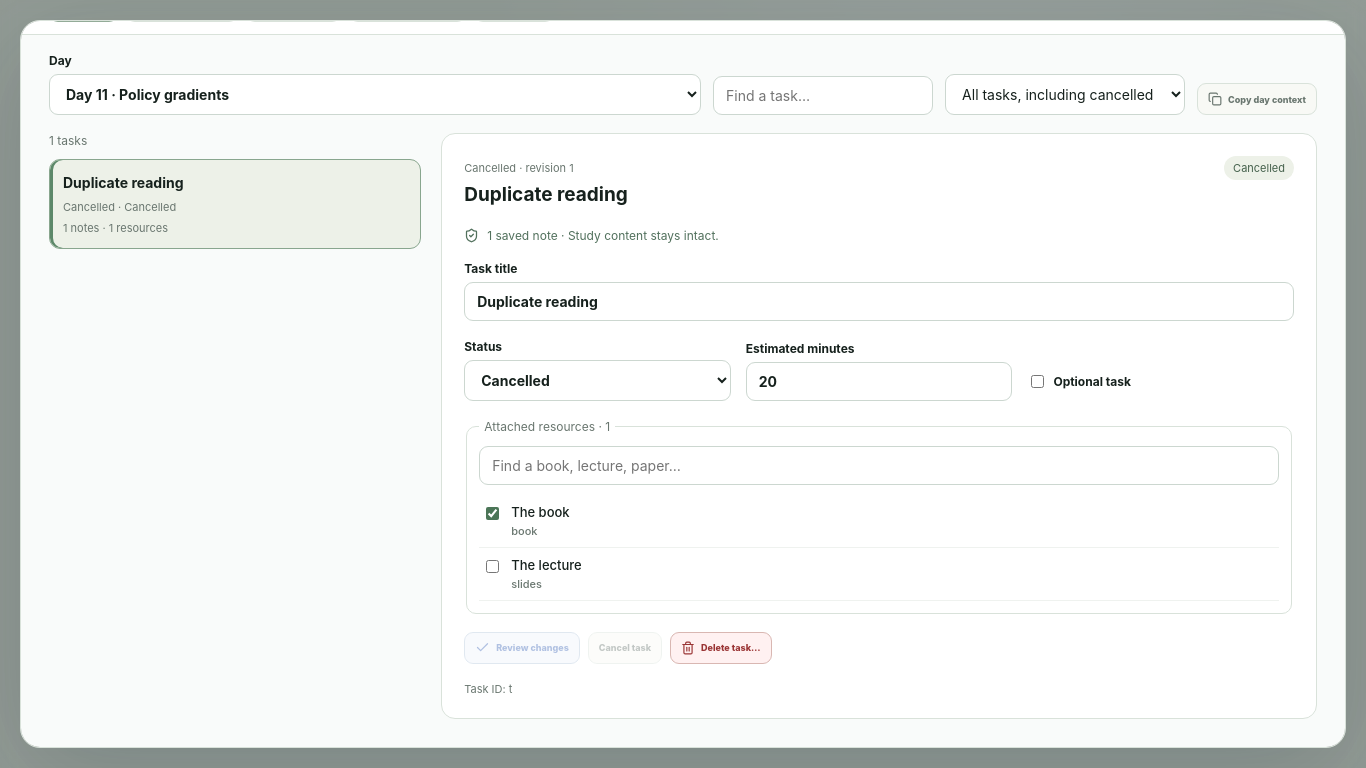
Test: requires a deletion preview, retains failures, and retries the same request ID
Later steps or results of the test are not shown.
(page scrolled)
Click the button "Delete task…" at coordinates (721, 648), box [670,632,772,664]
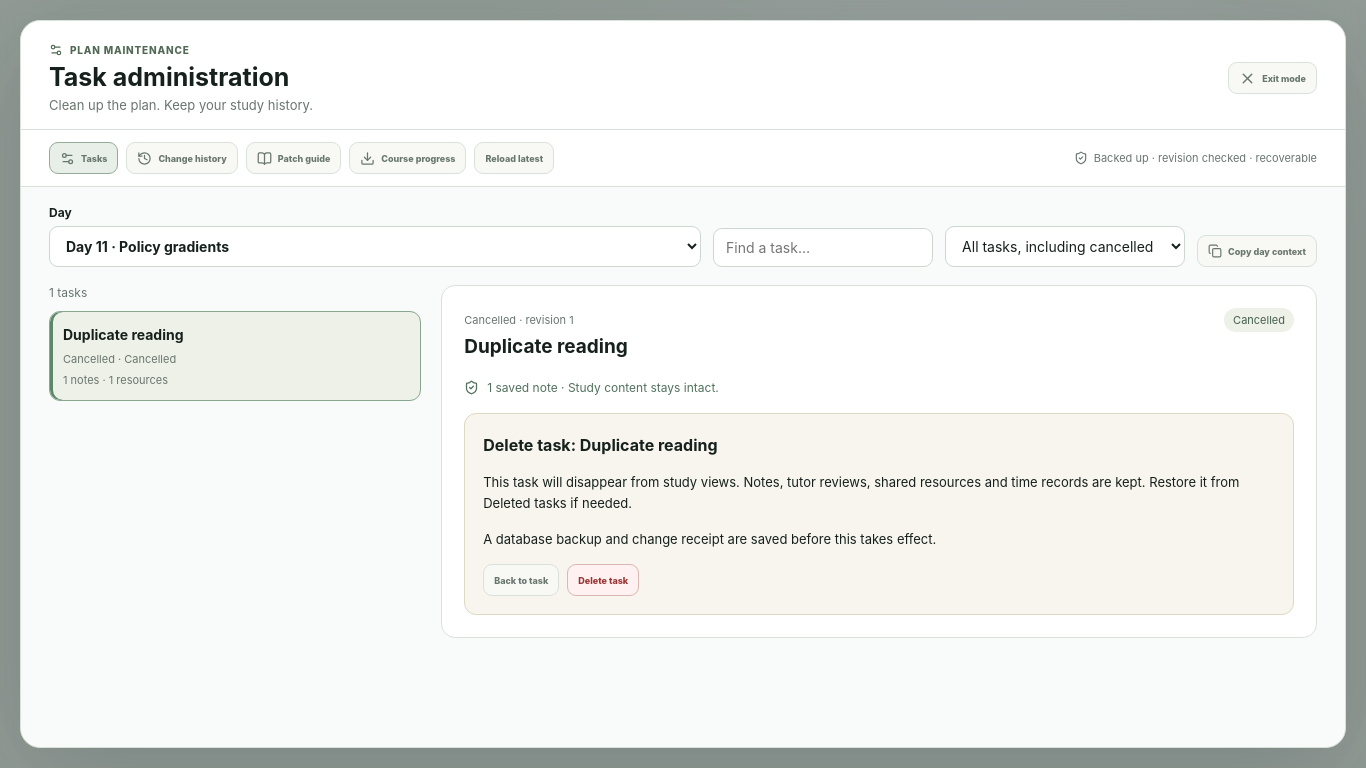
Expected: the text "Notes, tutor reviews, shared resources and time records are kept" is shown, [483,474,1239,511]
Click the button "Delete task" at coordinates (603, 580), box [567,564,639,596]
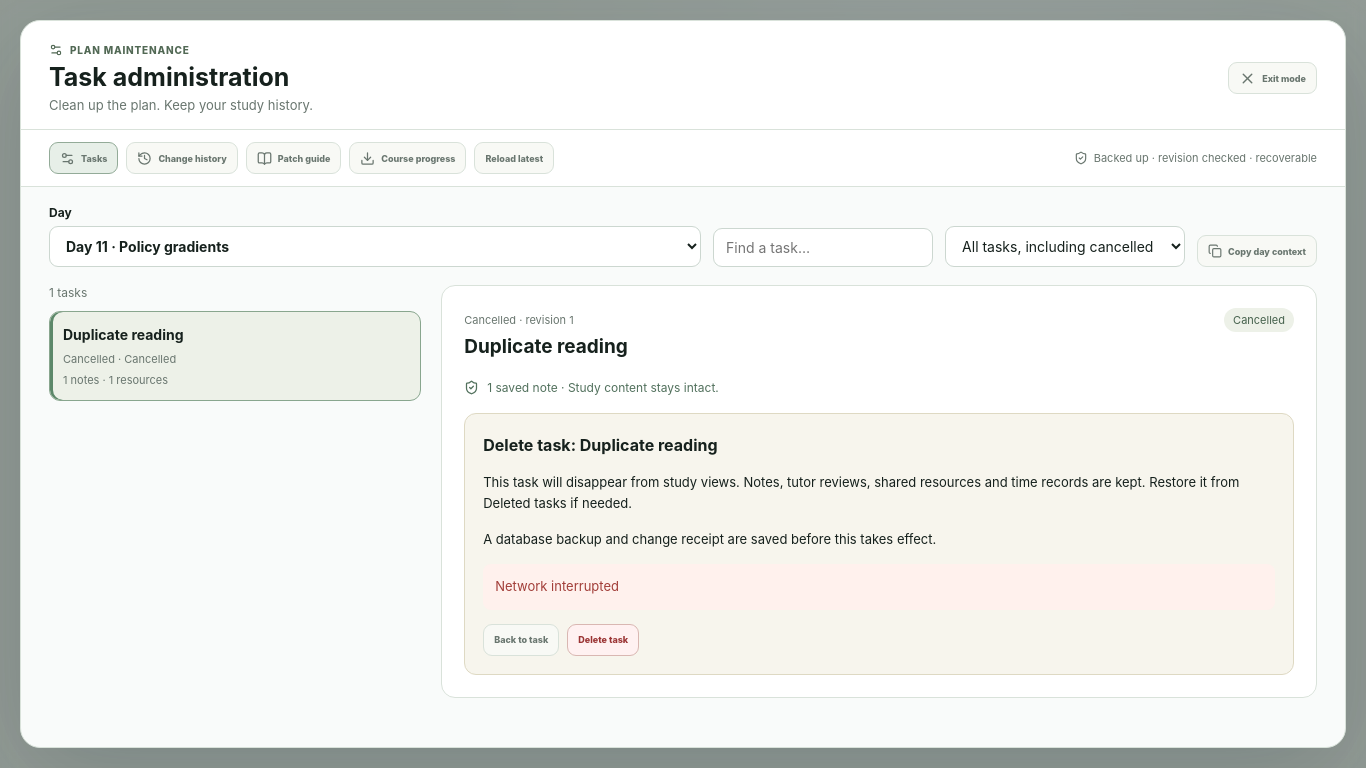
Expected: the message "Network interrupted" is shown, [483,564,1275,610]
Click the button "Delete task" at coordinates (603, 640), box [567,624,639,656]
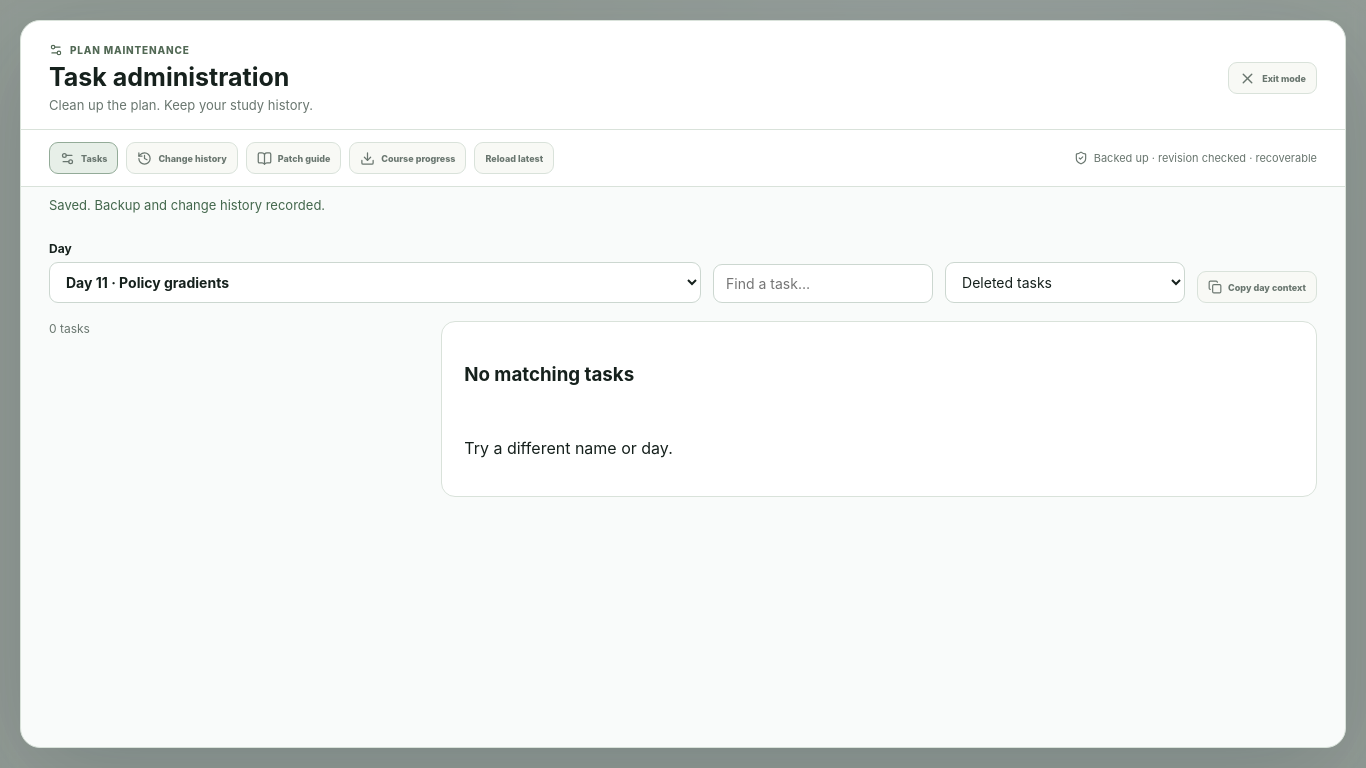
Expected: the text "No matching tasks" is shown, [464,363,634,386]
Select "Deleted tasks" in the dropdown named "Task visibility" at coordinates (1065, 282), box [945,262,1185,303]
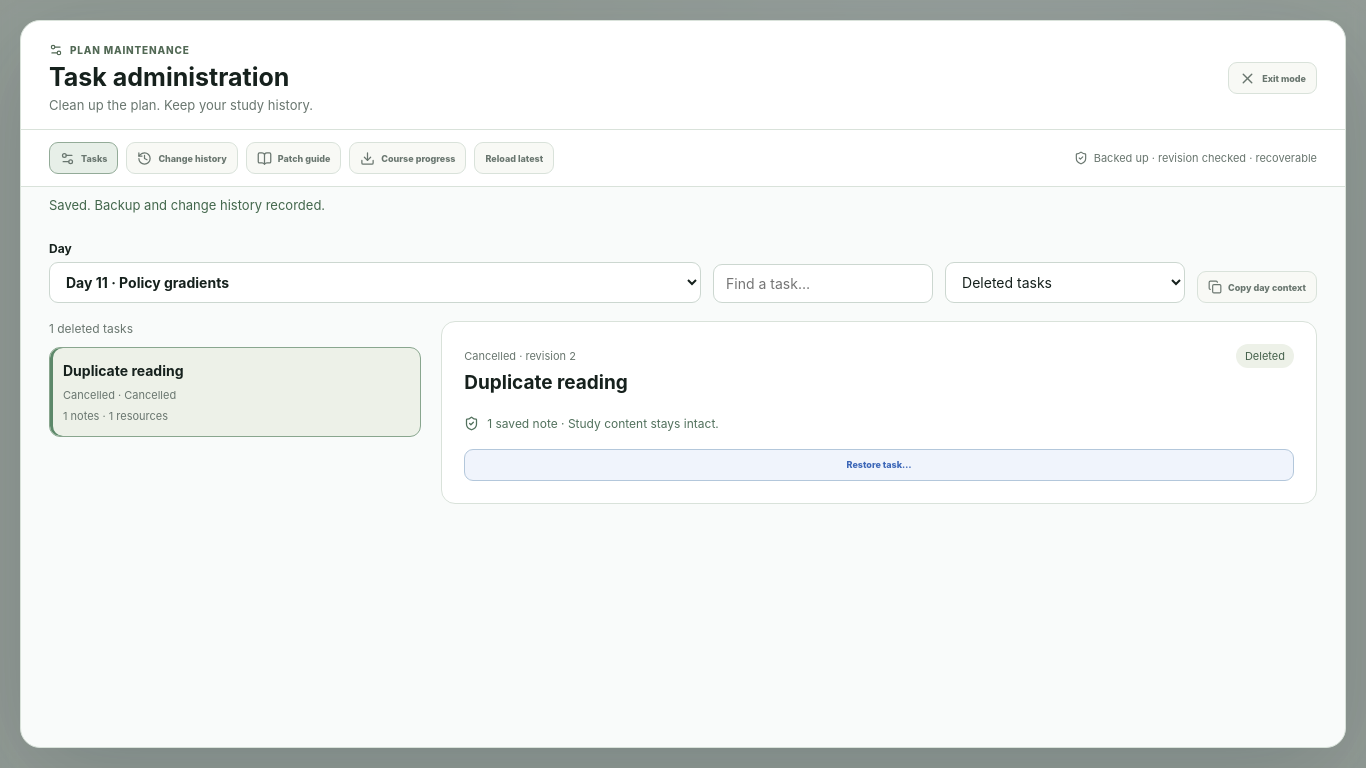
Expected: the button "Restore task…" is shown
Click the button "Restore task…" at coordinates (879, 464), box [464,448,1294,480]
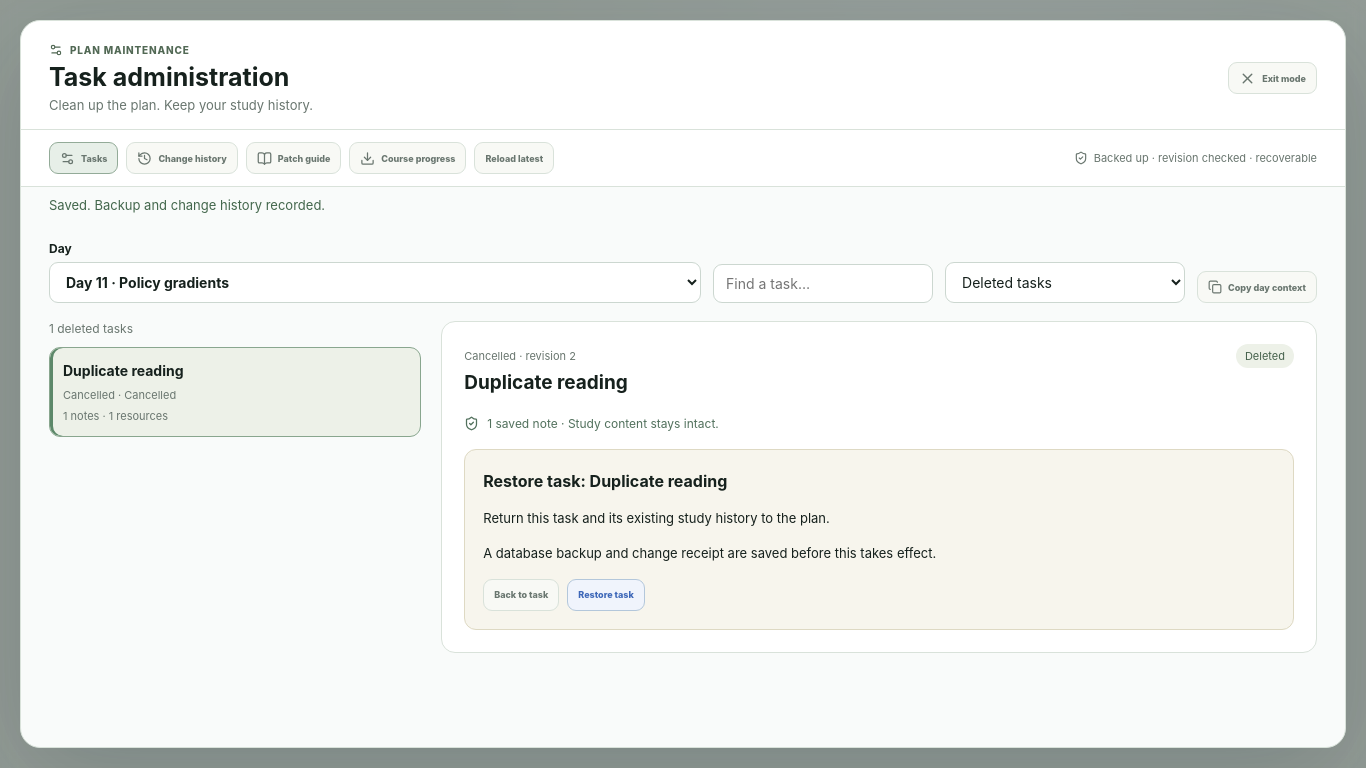
Expected: the button "Restore task" is shown, [567,579,645,611]
